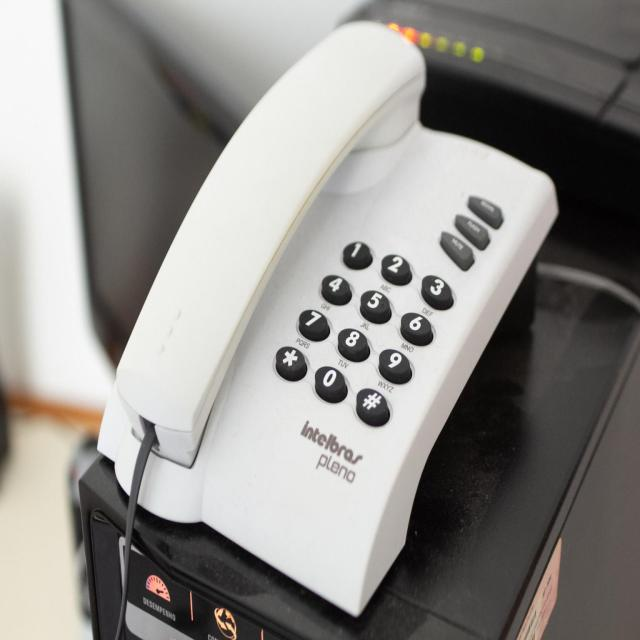Phone: (97, 20, 563, 638)
